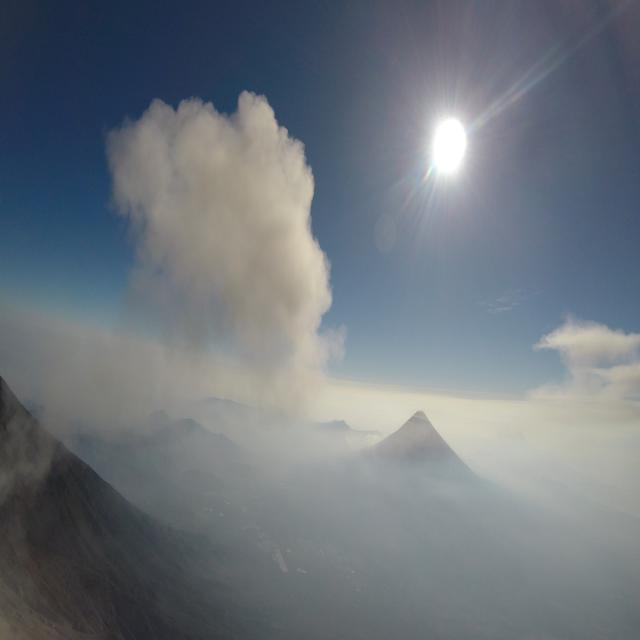Plume: (96, 72, 347, 420)
